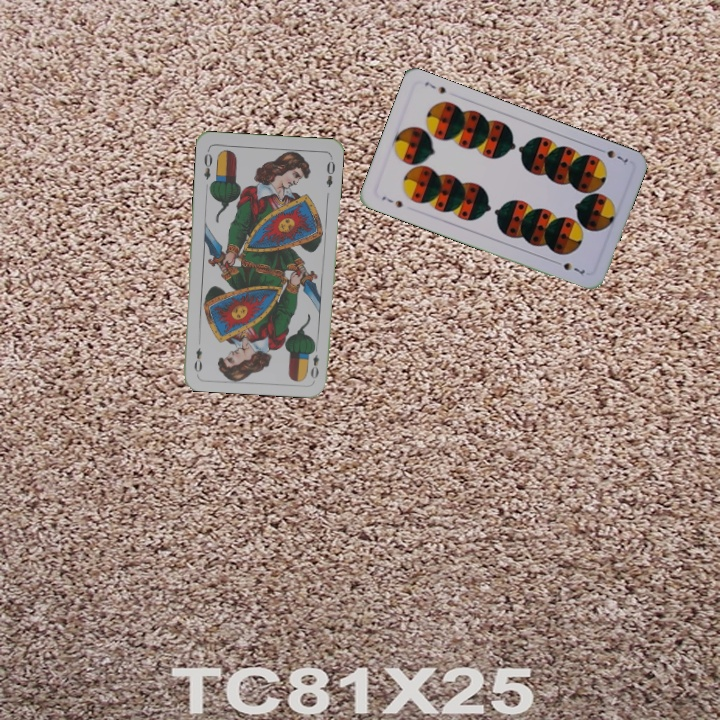EO: (307, 341, 322, 381), (200, 146, 215, 182)
S7: (593, 144, 633, 167), (378, 192, 405, 211)
